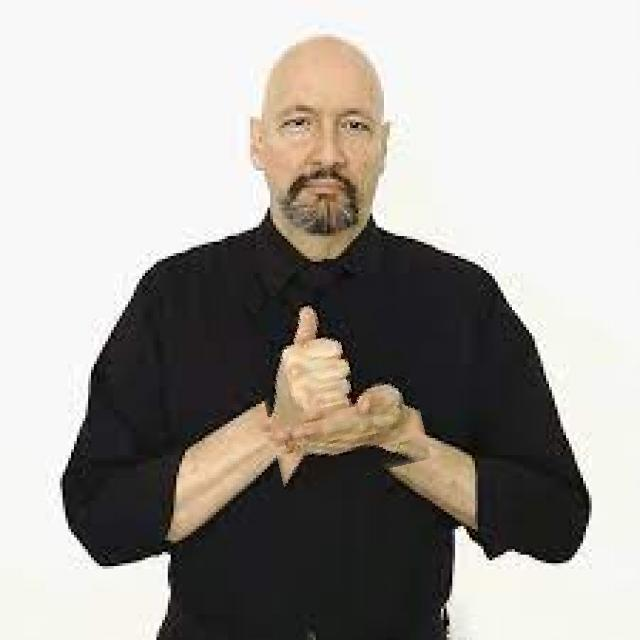Help: (252, 277, 422, 485)
